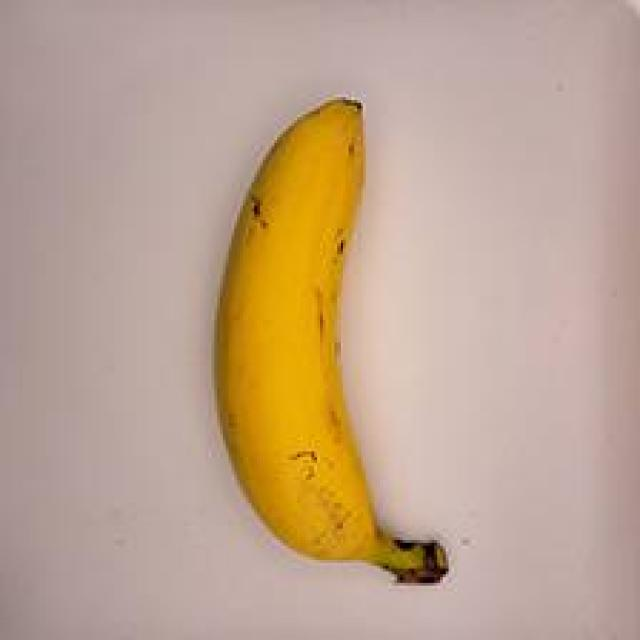Ripe: (164, 77, 464, 597)
